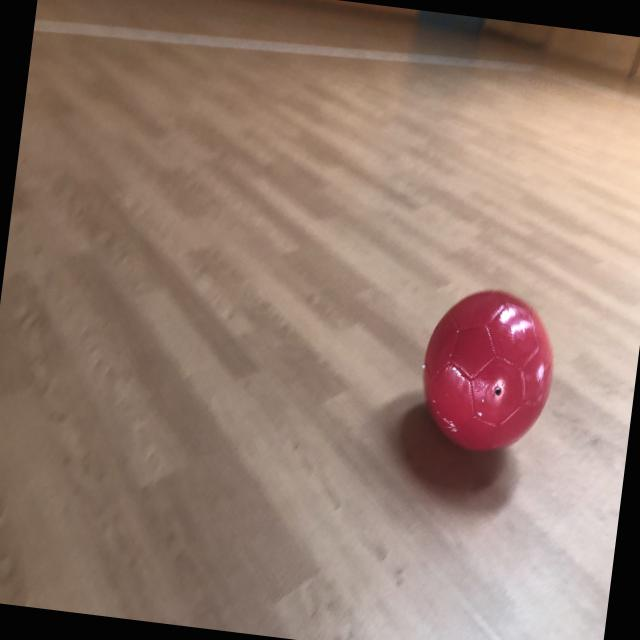red_ball: (413, 280, 562, 460)
